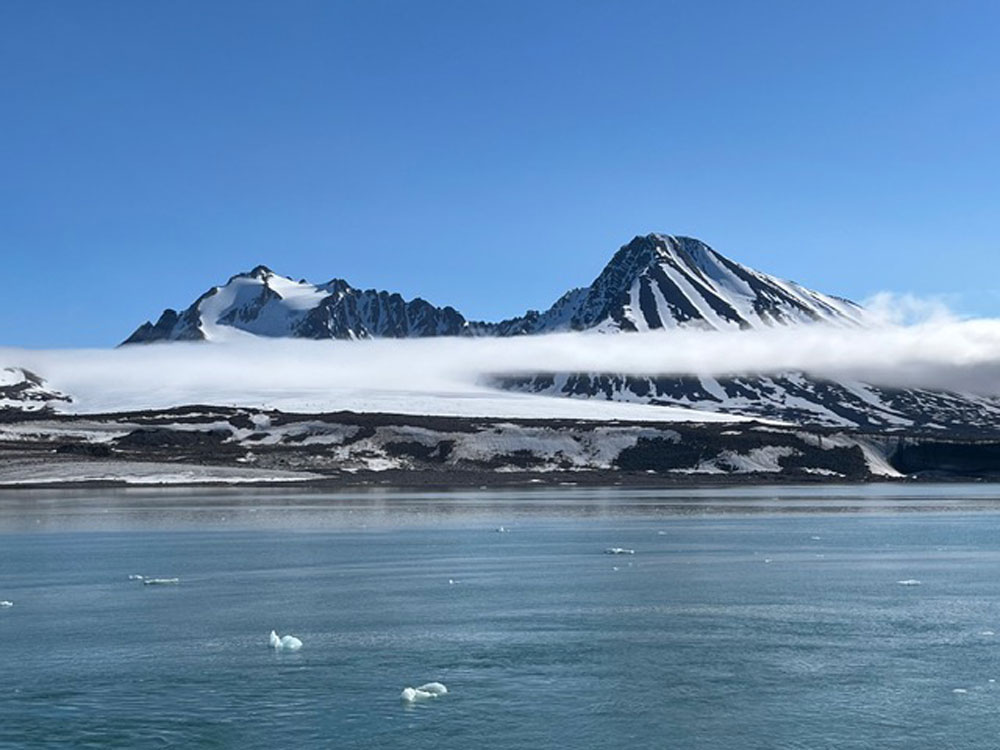Stratus: (1, 304, 1000, 422)
